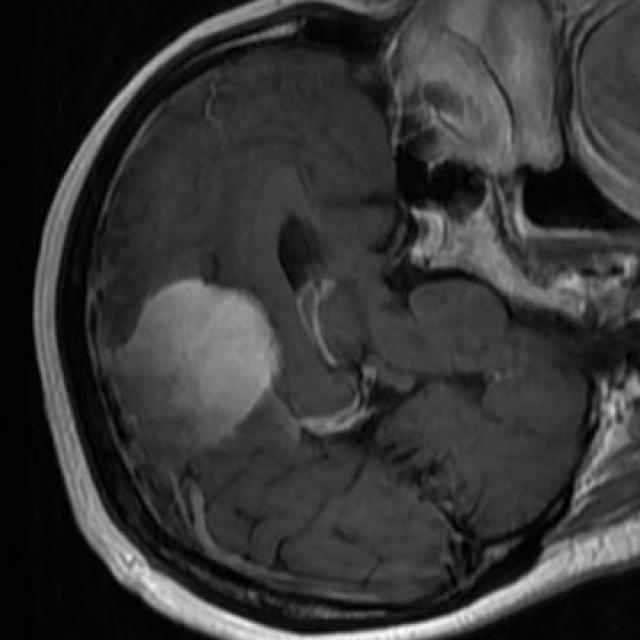meningioma: (123, 280, 280, 456)
